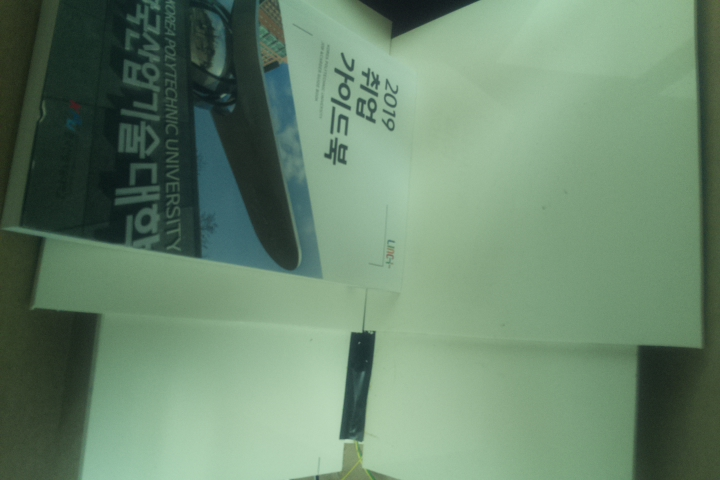book: (1, 1, 425, 298)
